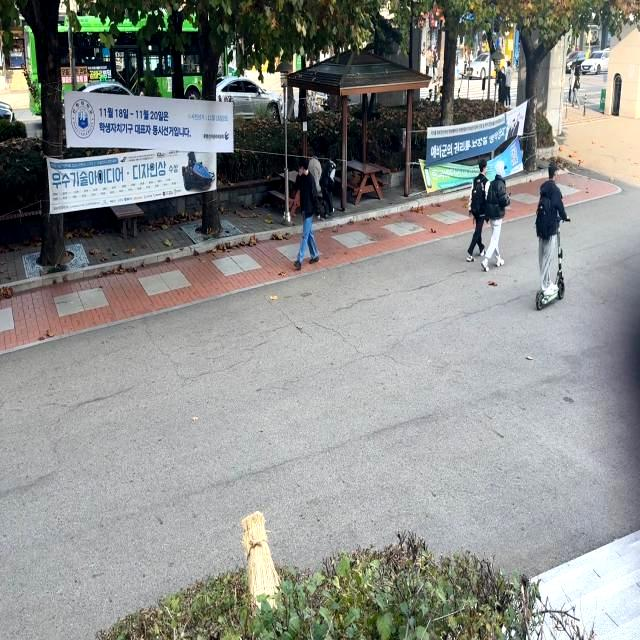bare_head: (540, 159, 564, 181)
human: (533, 151, 556, 294)
kickboard: (516, 276, 589, 314)
